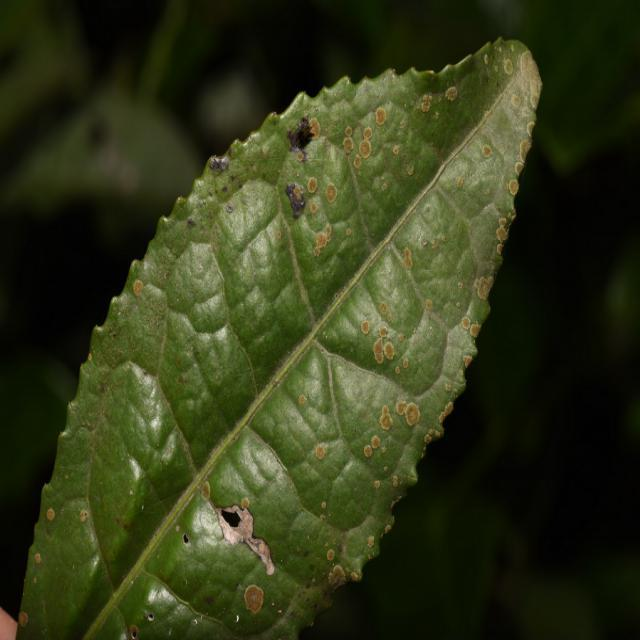Tea algae leaf spot: (188, 40, 533, 594)
